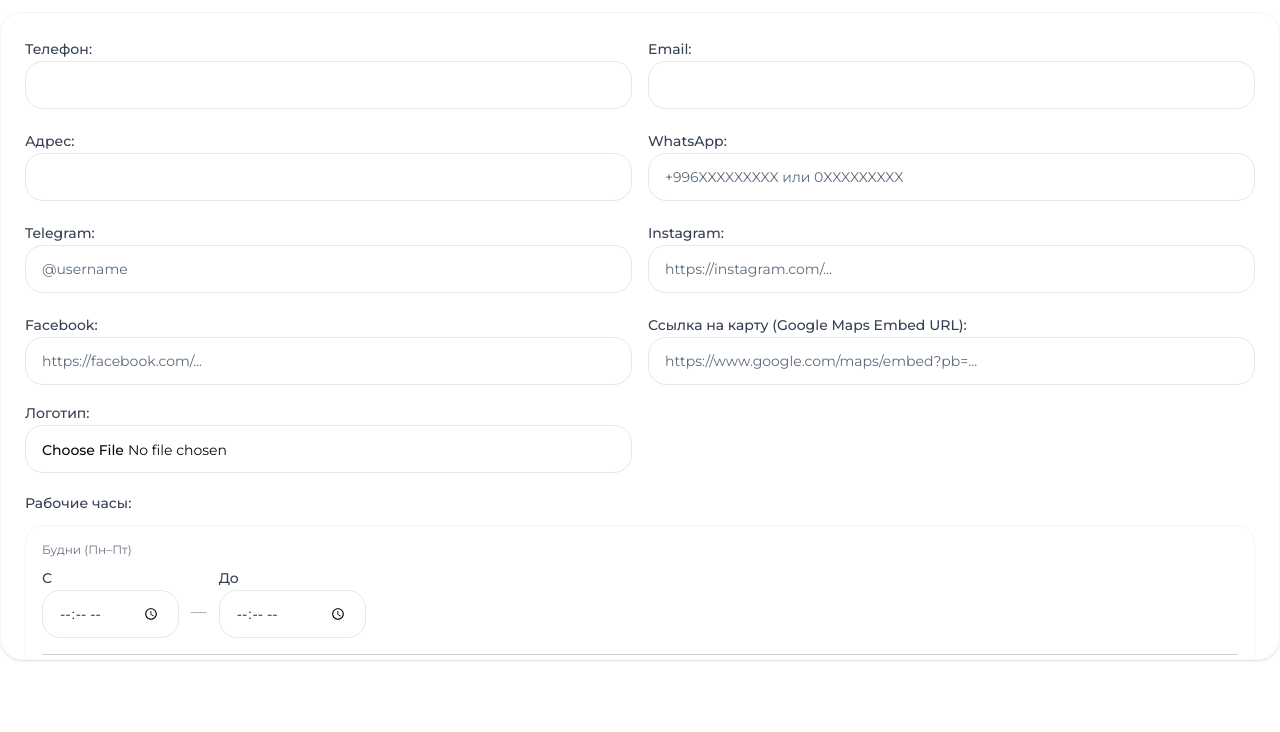
Test: ContactSettingsForm › валидация › проверяет формат email
Type "+996700000000" into the field below "Телефон:" at (328,85), box x1=25 y1=61 x2=632 y2=109
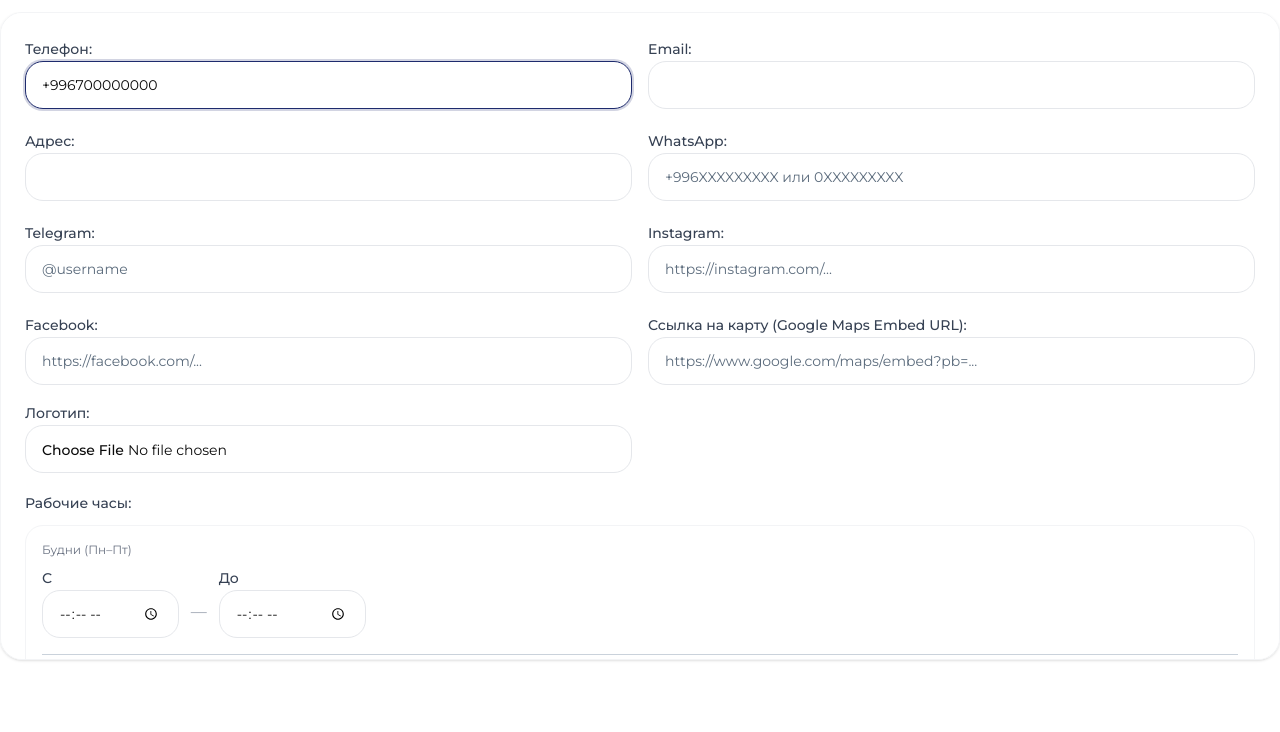
Type "не-email" into the field below "Email:" at (952,85), box x1=648 y1=61 x2=1255 y2=109
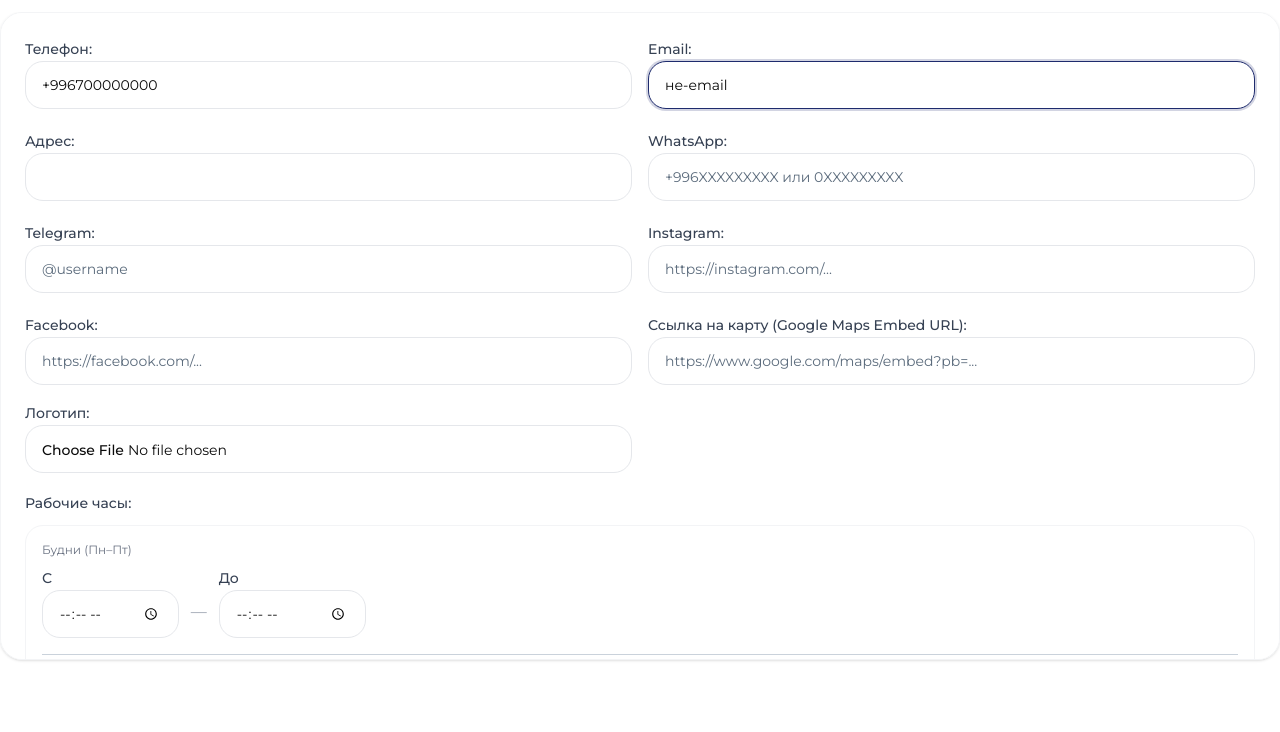
Type "Адрес" into the field below "Адрес:" at (328,177), box x1=25 y1=153 x2=632 y2=201
(page scrolled)
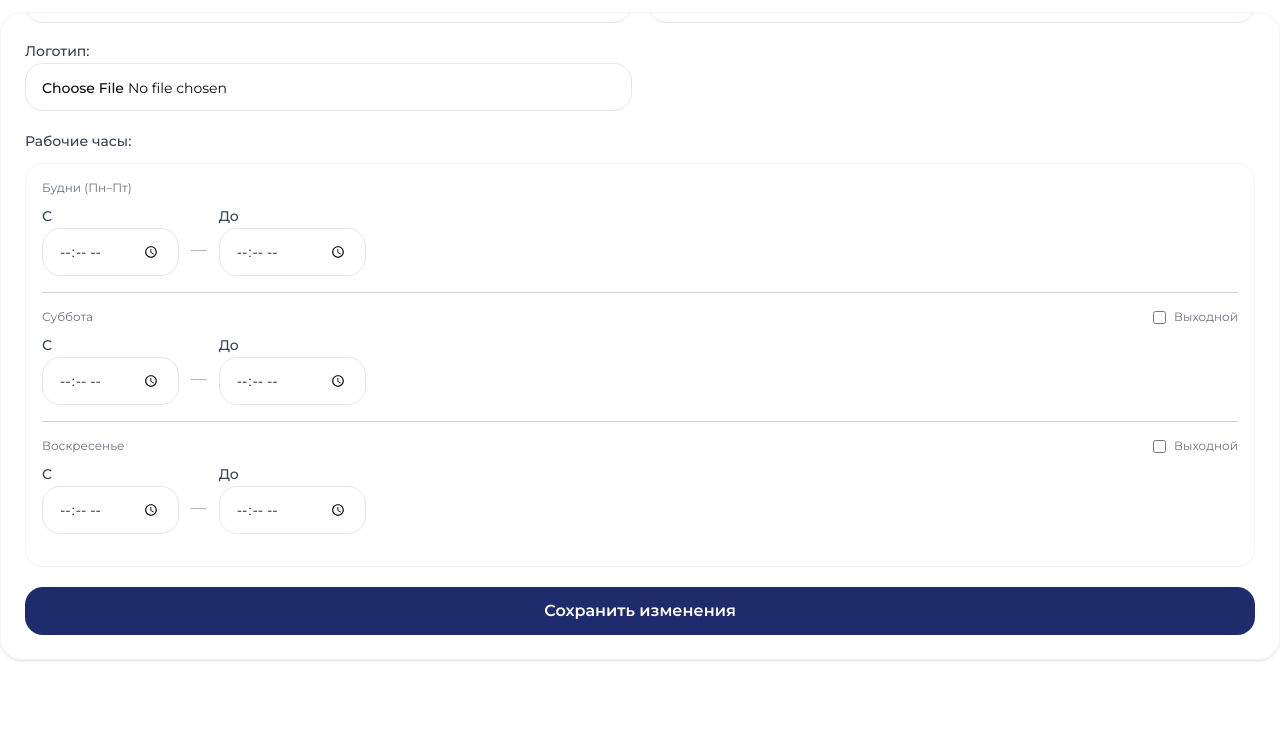
Click the button "Сохранить изменения" at (640,611), box x1=25 y1=587 x2=1255 y2=635
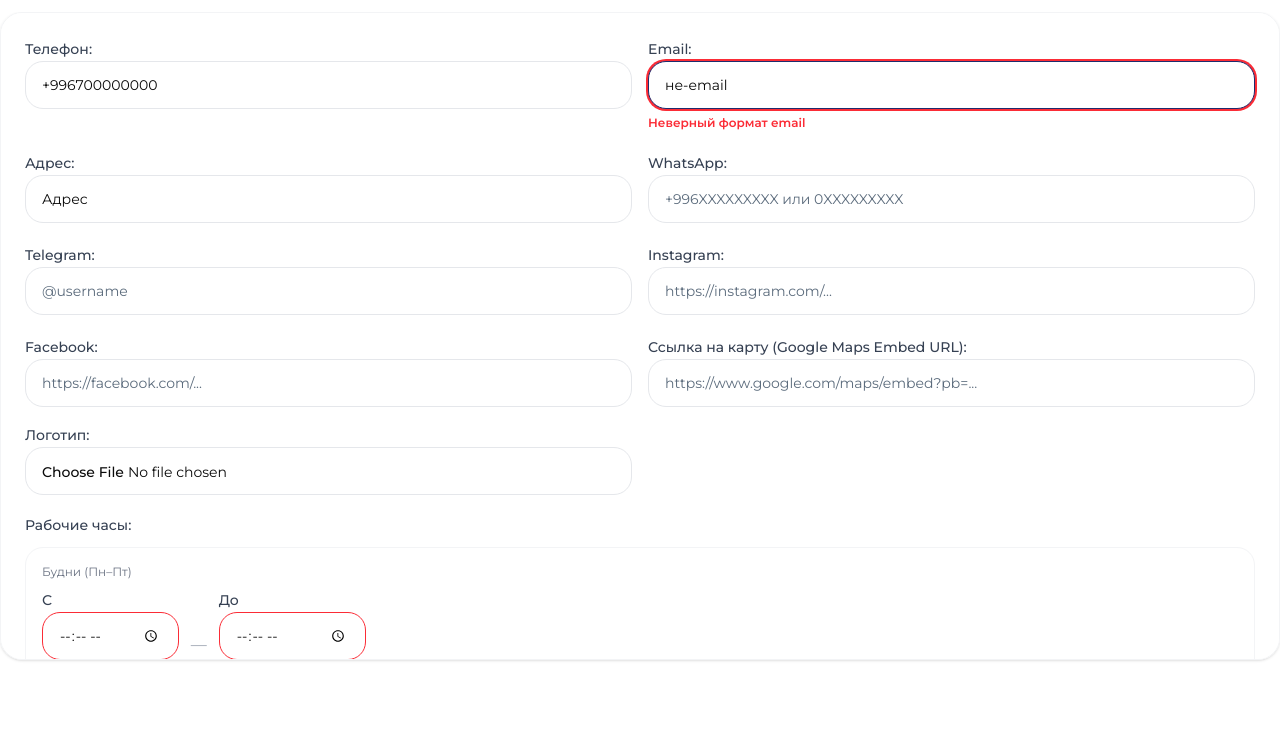
Now the text "Неверный формат email" is shown, box x1=648 y1=115 x2=805 y2=130
